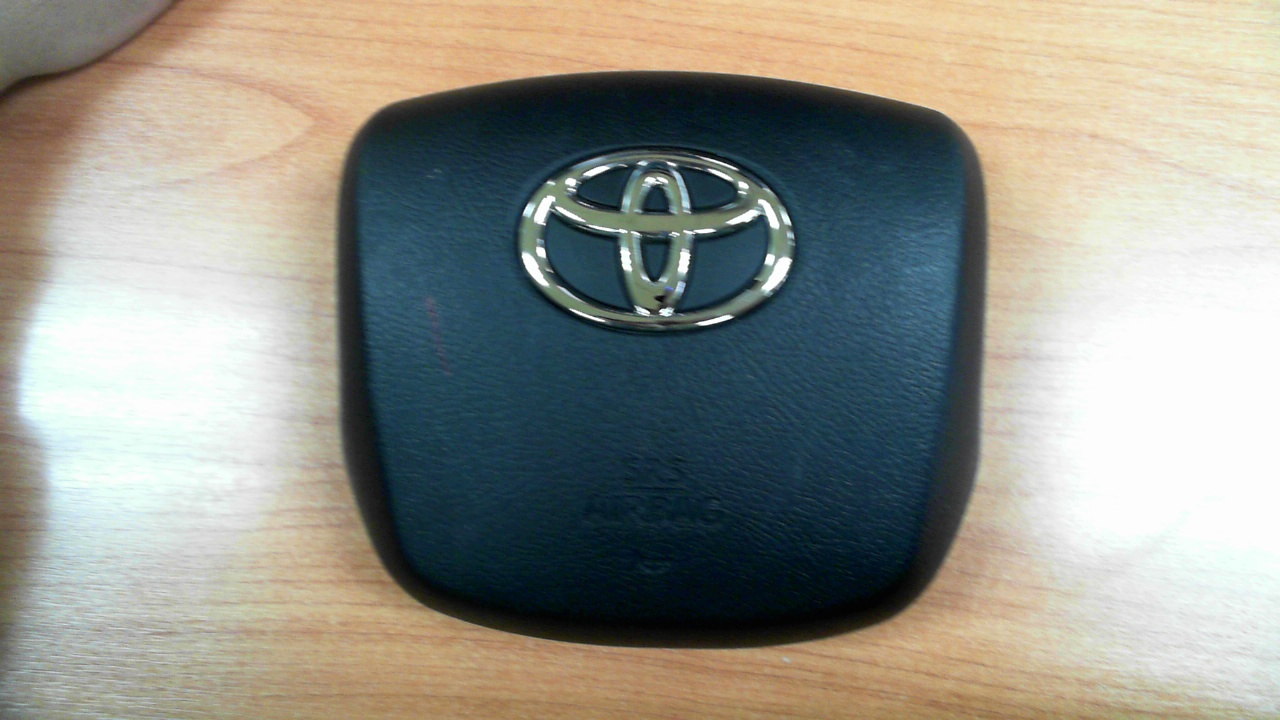Airbag: (334, 69, 988, 651)
Toyota: (519, 149, 796, 333)
